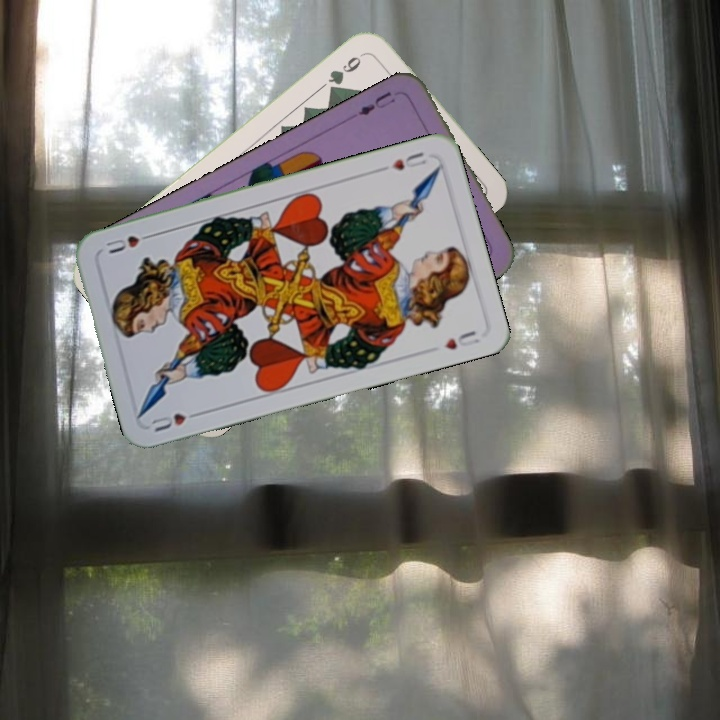EU: (354, 87, 398, 118)
G9: (324, 48, 369, 96)
HU: (147, 407, 204, 435), (376, 148, 430, 174)
